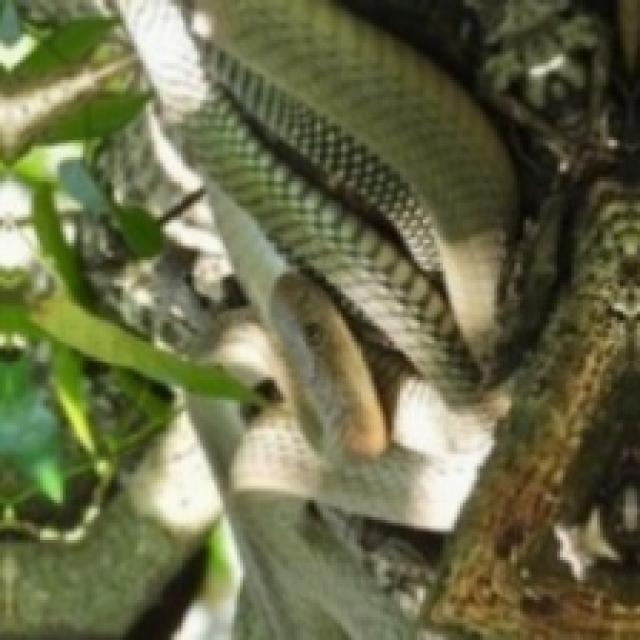king cobra: (120, 0, 514, 400)
